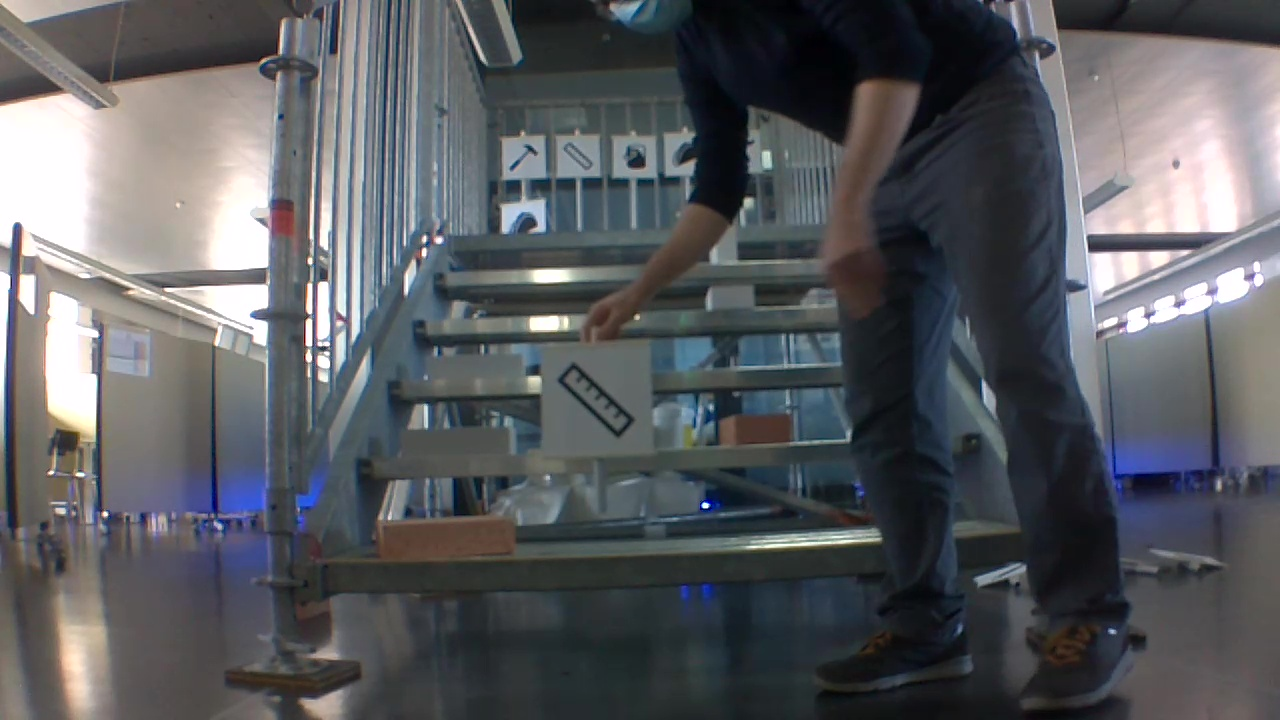brick: (376, 513, 522, 560), (401, 423, 516, 454), (715, 411, 798, 449), (429, 352, 523, 378), (702, 282, 756, 311)
bucket: (622, 140, 651, 173)
hammer: (507, 141, 537, 170)
ruler: (556, 356, 639, 440), (563, 138, 593, 172)
taco: (674, 137, 698, 169), (508, 209, 537, 235)
